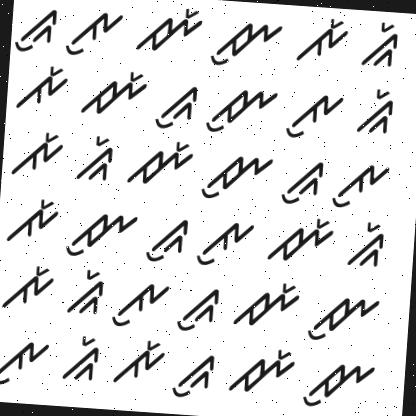ar: (5, 191, 62, 248), (14, 62, 72, 118), (296, 12, 354, 68), (9, 127, 66, 183), (109, 334, 166, 389), (0, 260, 57, 312)
aw: (66, 6, 128, 64), (109, 275, 171, 332), (194, 217, 258, 272), (331, 158, 394, 213), (284, 90, 346, 142), (0, 336, 51, 395)
nggar: (342, 216, 390, 272), (64, 266, 112, 322), (353, 82, 400, 138), (73, 133, 118, 191), (360, 15, 402, 76), (58, 330, 102, 388)
nggaw: (174, 282, 224, 338), (278, 158, 328, 209), (172, 347, 218, 401), (13, 3, 58, 58), (141, 215, 190, 265), (154, 84, 200, 135)
njar: (226, 338, 298, 404), (232, 274, 304, 336), (80, 66, 149, 126), (266, 214, 338, 271), (123, 136, 195, 192), (136, 3, 204, 59)
njaw: (300, 353, 380, 414), (196, 148, 280, 206), (208, 13, 284, 77), (63, 204, 140, 266), (203, 82, 281, 141), (306, 288, 382, 346)
